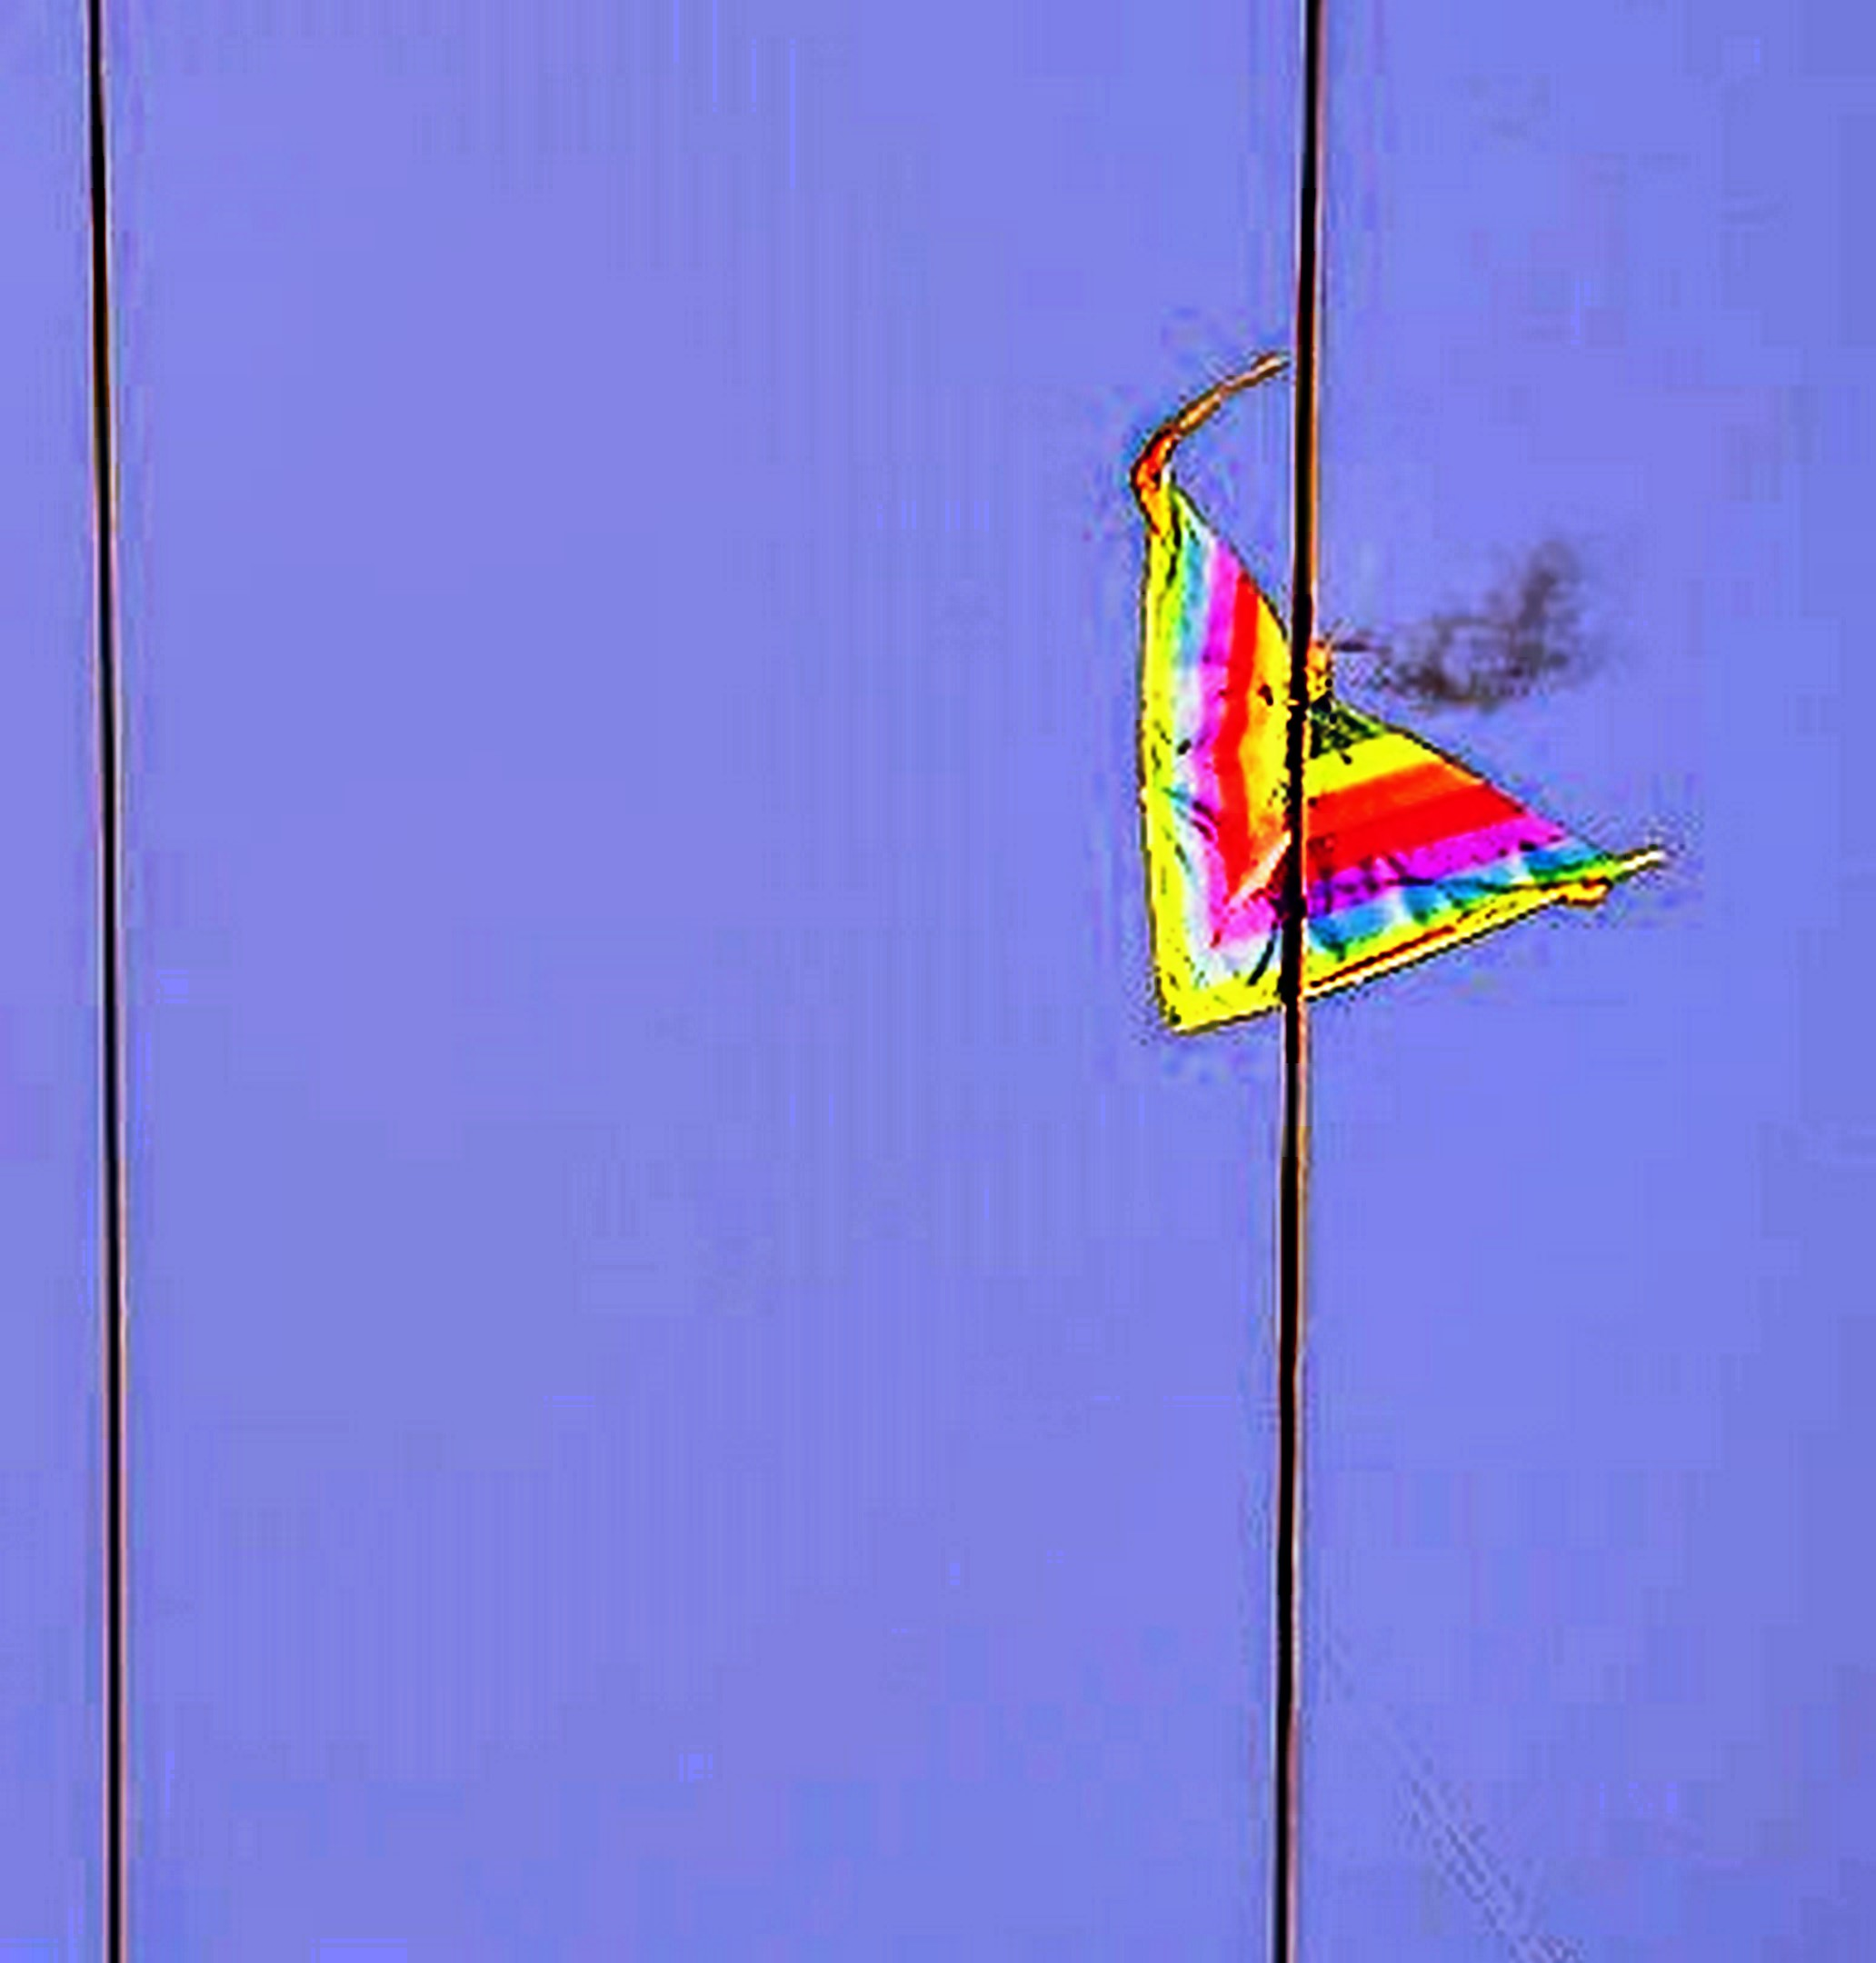wire foreign body: (1034, 331, 1701, 1101)
